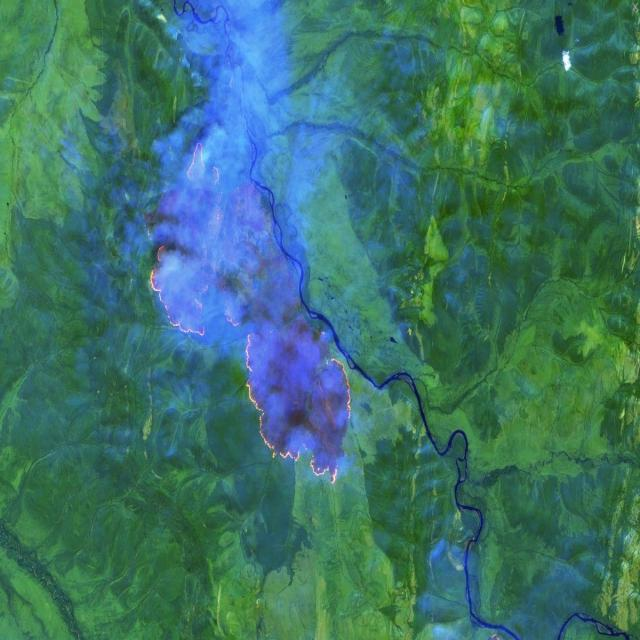fire: (144, 238, 355, 489)
